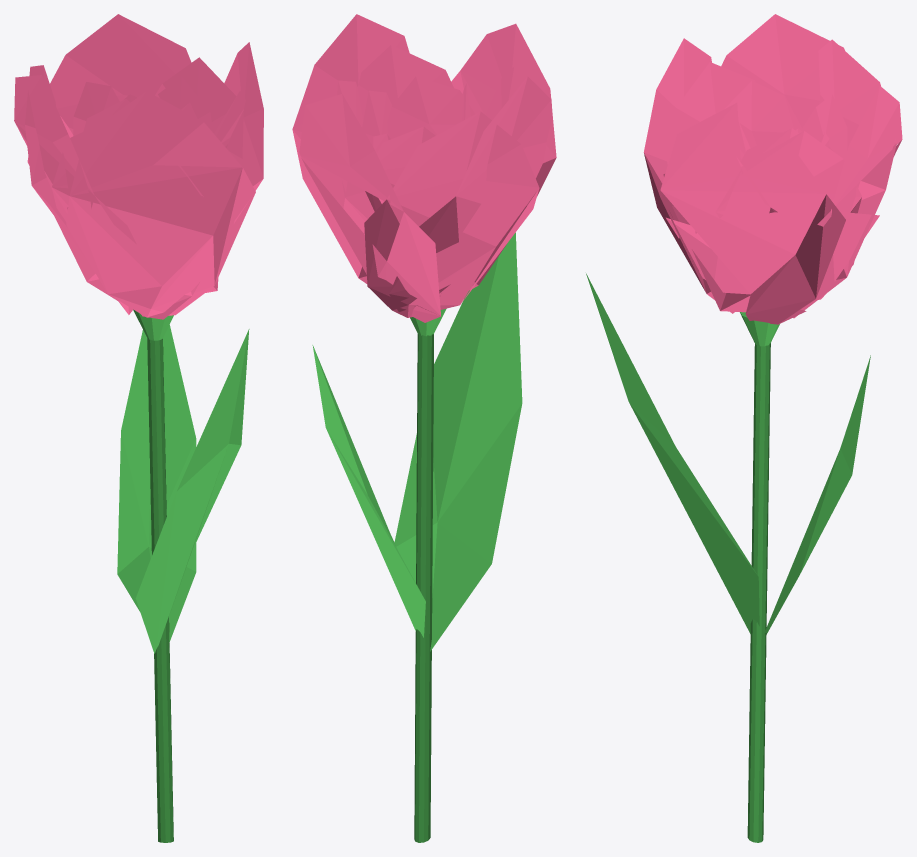
File: flower-3.glb
3 views of the same model, side by side, from view 1: azimuth 30°, elevation 25°; view 2: azimuth 150°, elevation 25°; view 3: azimuth 270°, elevation 25° (orthographic). The views are drawn at different scales.
Visible parts, largest first — view 1: Node; view 2: Node; view 3: Node.
Part boxes in pixels (x1,y1,x2,y2): Node: (14, 14, 263, 842); Node: (292, 14, 556, 842); Node: (586, 14, 902, 842).
Size of the model in its own units: 0.1526 by 0.5325 by 0.1973.
